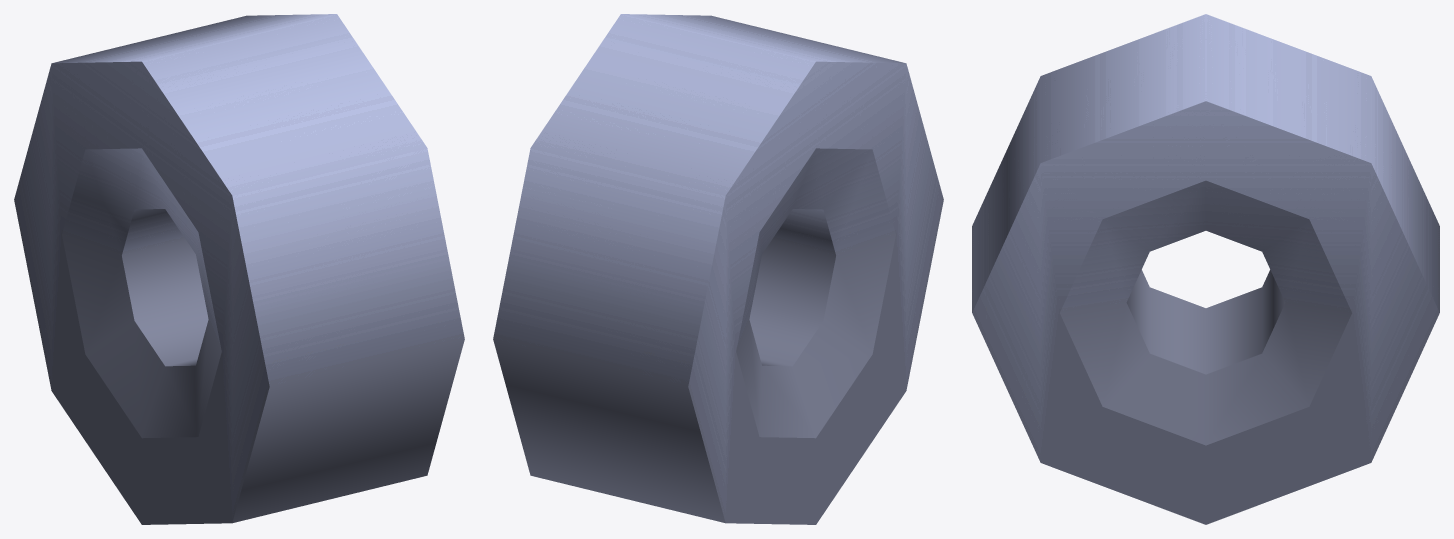
File: wheel_lev3.glb
3 views of the same model, side by side, from view 1: azimuth 30°, elevation 25°; view 2: azimuth 150°, elevation 25°; view 3: azimuth 270°, elevation 25° (orthographic). The views are drawn at different scales.
Parts seen in each view (by area): view 1: wheel_lev3; view 2: wheel_lev3; view 3: wheel_lev3.
Part boxes in pixels (bbox=[...]): wheel_lev3: bbox=[14, 14, 464, 524]; wheel_lev3: bbox=[493, 14, 943, 524]; wheel_lev3: bbox=[972, 14, 1439, 524].
Size of the model in its own units: 0.6719 by 1.52 by 1.52.
1 material, 1 textured.
